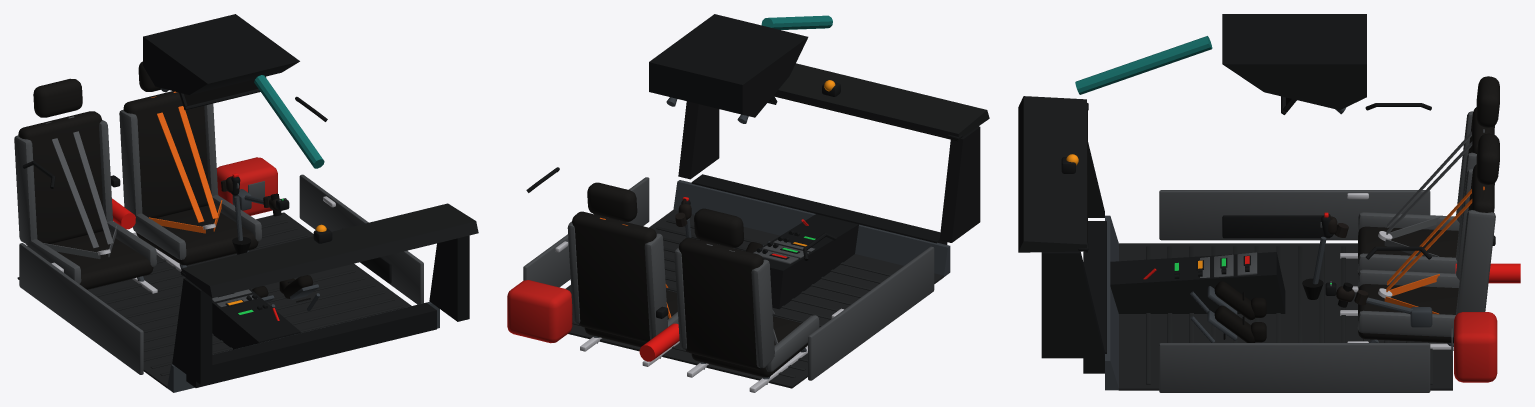
The model's file is cockpit.glb.
The picture shows the model from 3 angles, left to right: view 1: azimuth 30°, elevation 25°; view 2: azimuth 150°, elevation 25°; view 3: azimuth 270°, elevation 25°; orthographic projection. The views are drawn at different scales.
Parts seen in each view (by area): view 1: Cabin, Cyclic, Pedal_L, Screen_Overhead, Collective, Screen_Overhead_Bezel; view 2: Cabin, Cyclic; view 3: Cabin, Pedal_L, Collective, Pedal_R, Cyclic.
Boxes of the visible parts, bbox=[...] form: Cabin: bbox=[14, 14, 478, 392]; Cyclic: bbox=[221, 173, 251, 254]; Pedal_L: bbox=[279, 275, 319, 310]; Screen_Overhead: bbox=[184, 79, 258, 105]; Collective: bbox=[232, 189, 289, 216]; Screen_Overhead_Bezel: bbox=[179, 76, 266, 110]; Cabin: bbox=[507, 14, 989, 392]; Cyclic: bbox=[675, 197, 691, 237]; Cabin: bbox=[1018, 14, 1520, 392]; Pedal_L: bbox=[1190, 305, 1266, 342]; Collective: bbox=[1325, 281, 1432, 327]; Pedal_R: bbox=[1190, 281, 1266, 320]; Cyclic: bbox=[1302, 212, 1348, 299].
Bounding box in the file's own units: 2.03 × 1.73 × 2.78.
